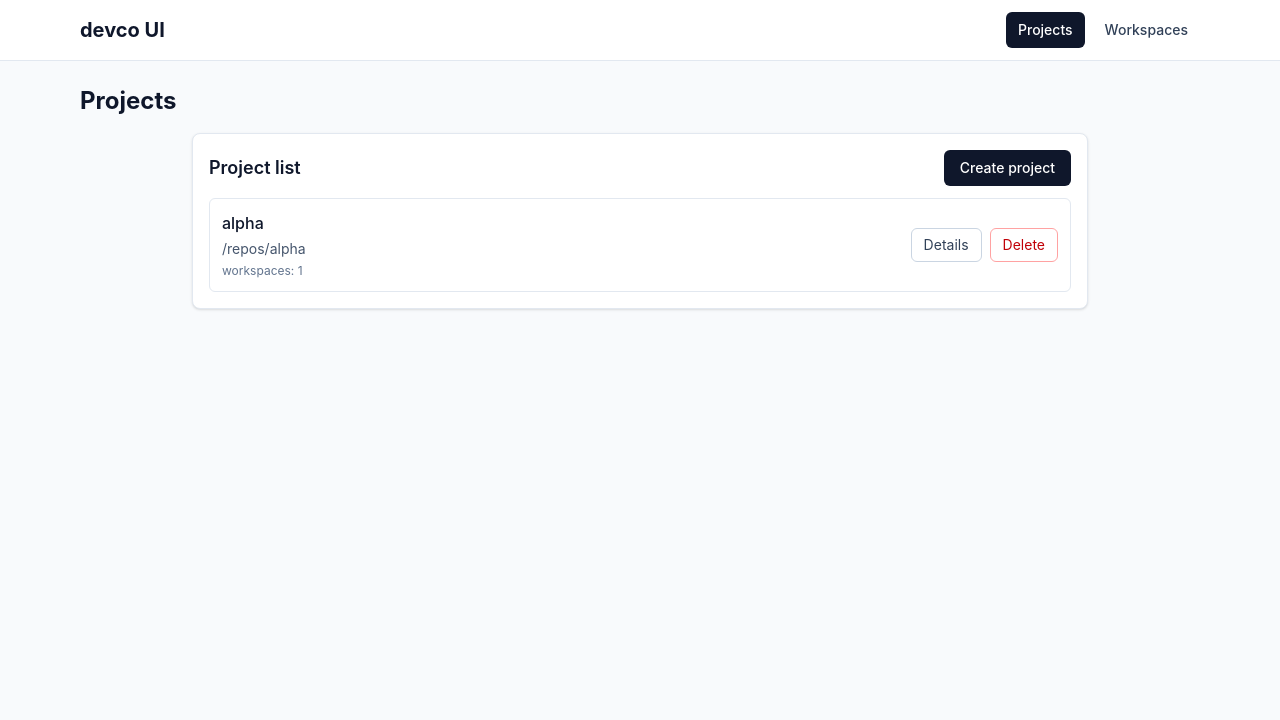
App browser flows › creates and deletes a project from project list
Expected: the text "alpha" is shown, [222,213,264,233]
Step 1. Click the button "Create project" → (1007, 168), box [944,150,1071,186]
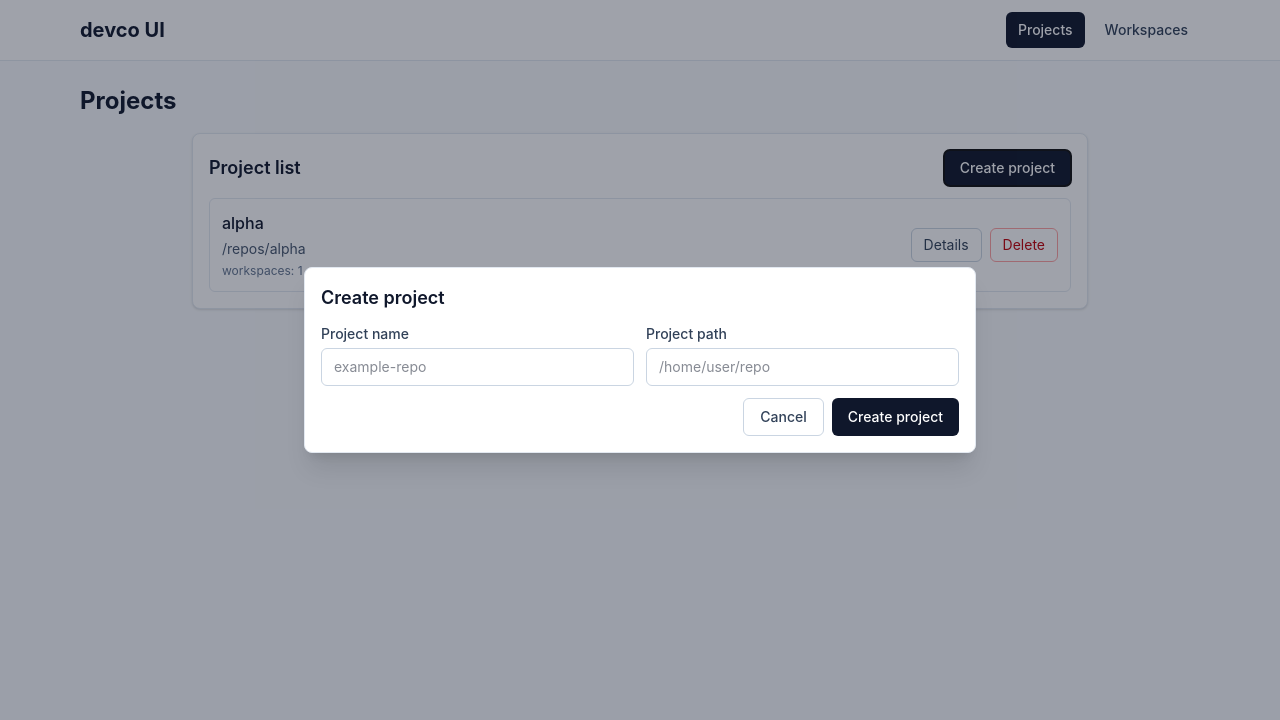
Step 2. Type "beta" into the field labelled "Project name" → (478, 367), box [321,348,634,386]
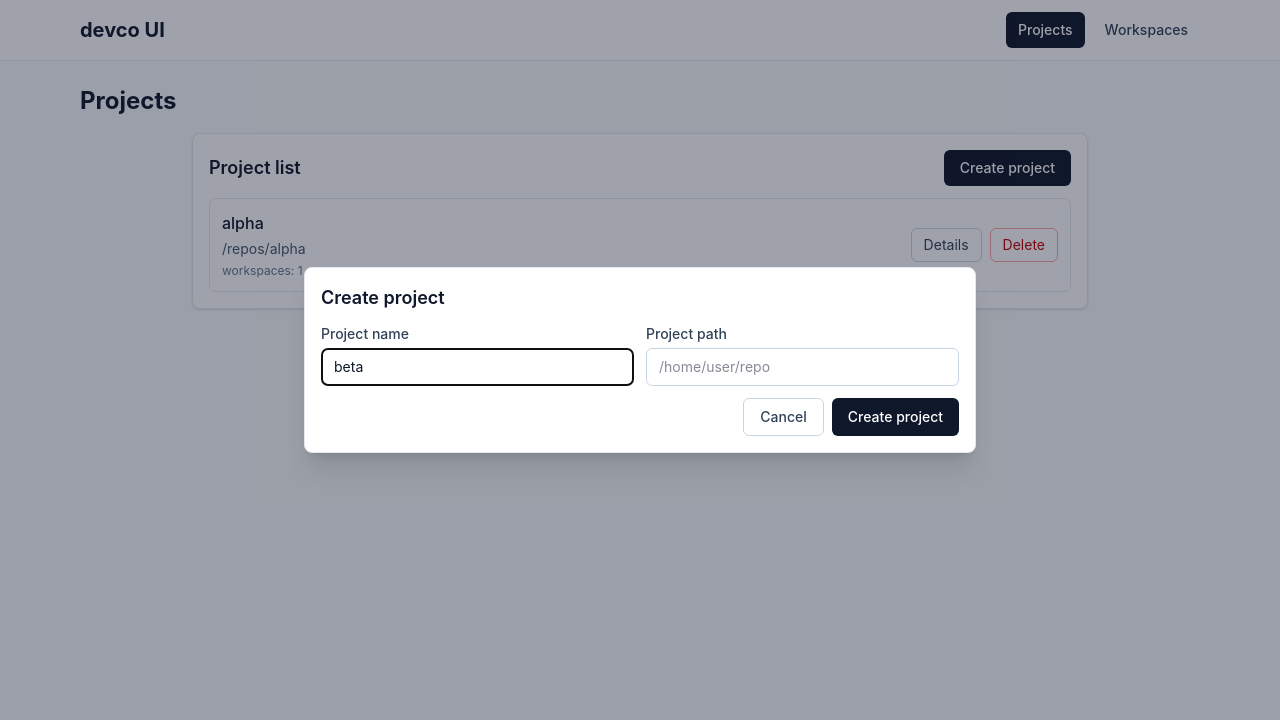
Step 3. Type "/repos/beta" into the field labelled "Project path" → (802, 367), box [646,348,959,386]
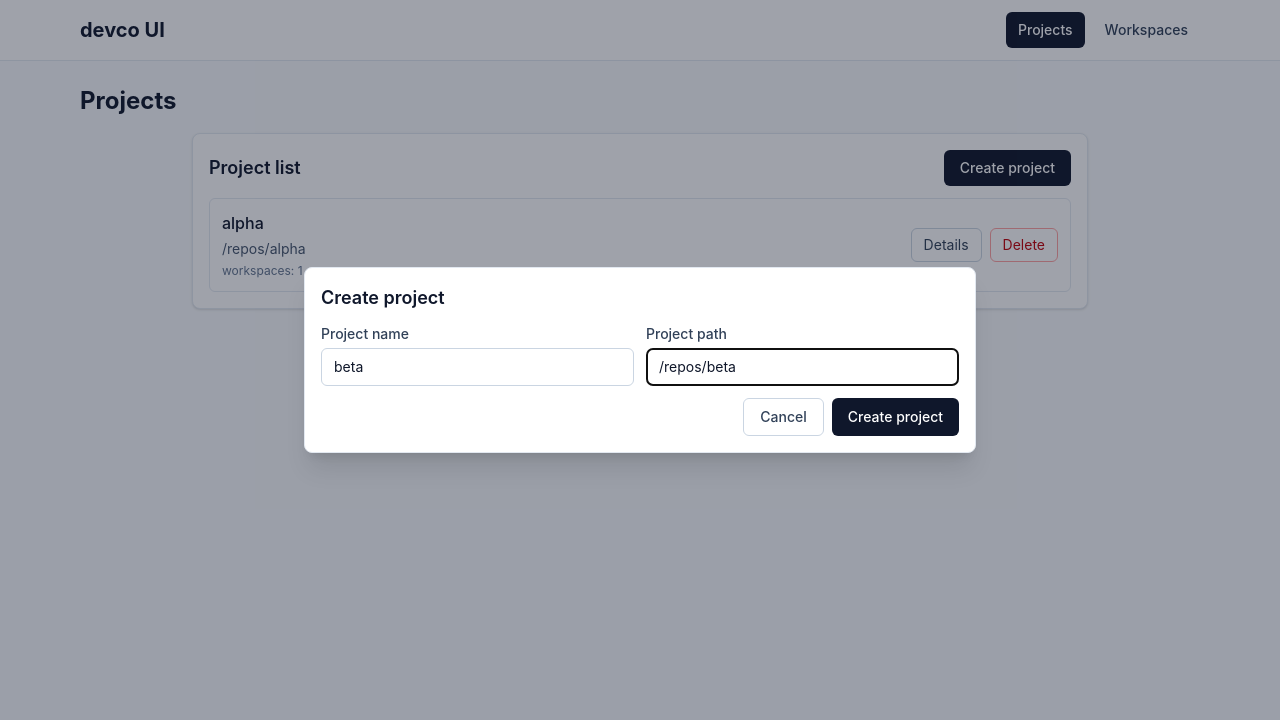
Step 4. Click the button "Create project" → (895, 417), box [832,398,959,436]
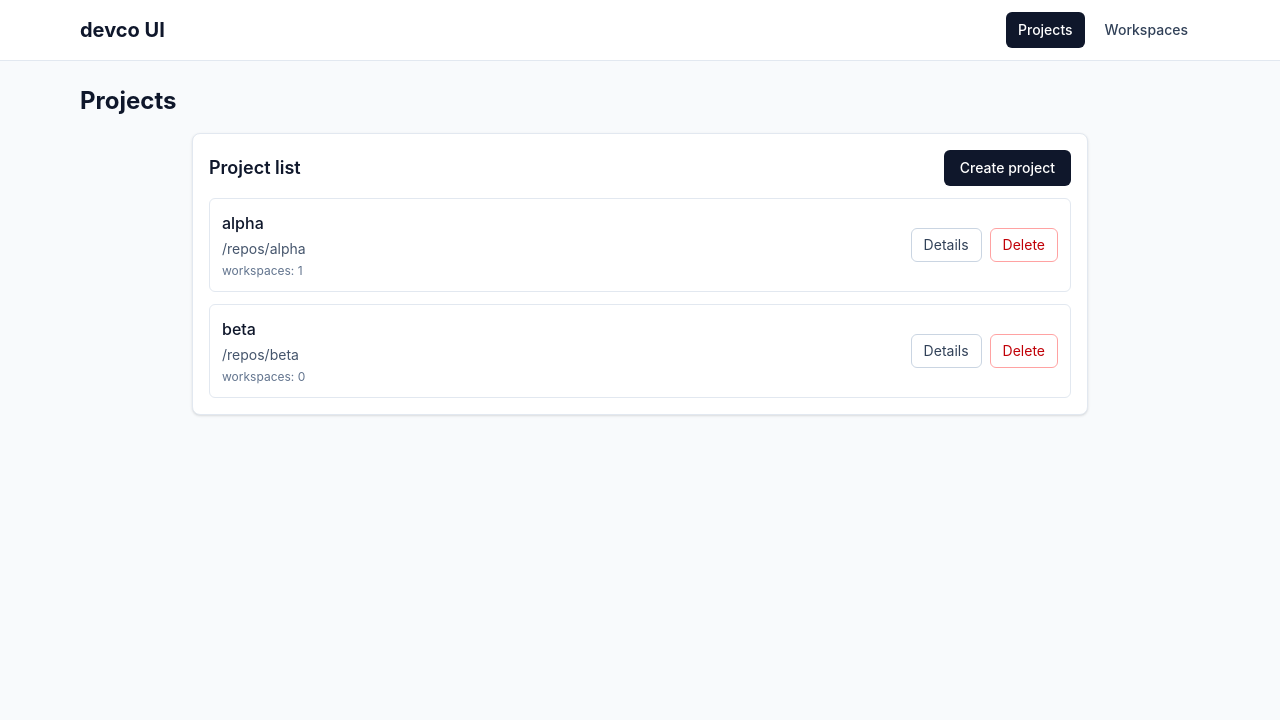
Result: the text "beta" is shown at [222,319,256,339]
Step 5. Click the button with aria-label "Delete beta" → (1024, 351), box [990,334,1058,368]
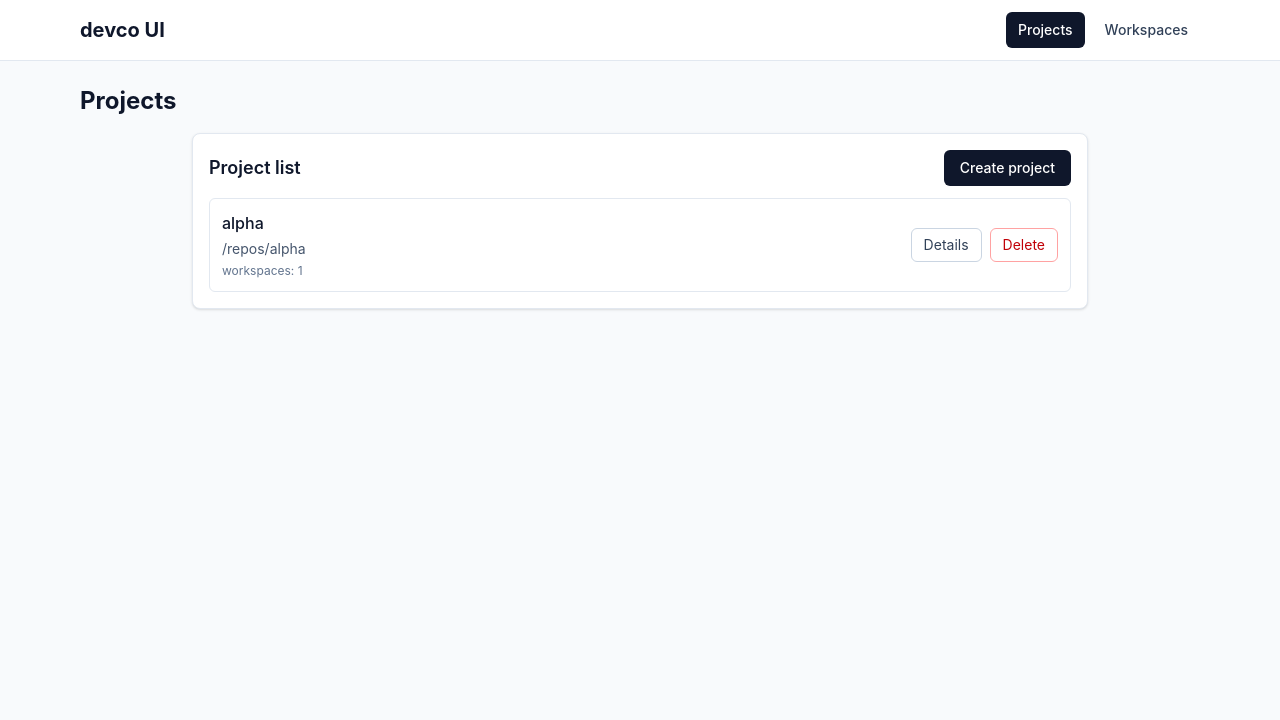
Result: the text "beta" is gone
